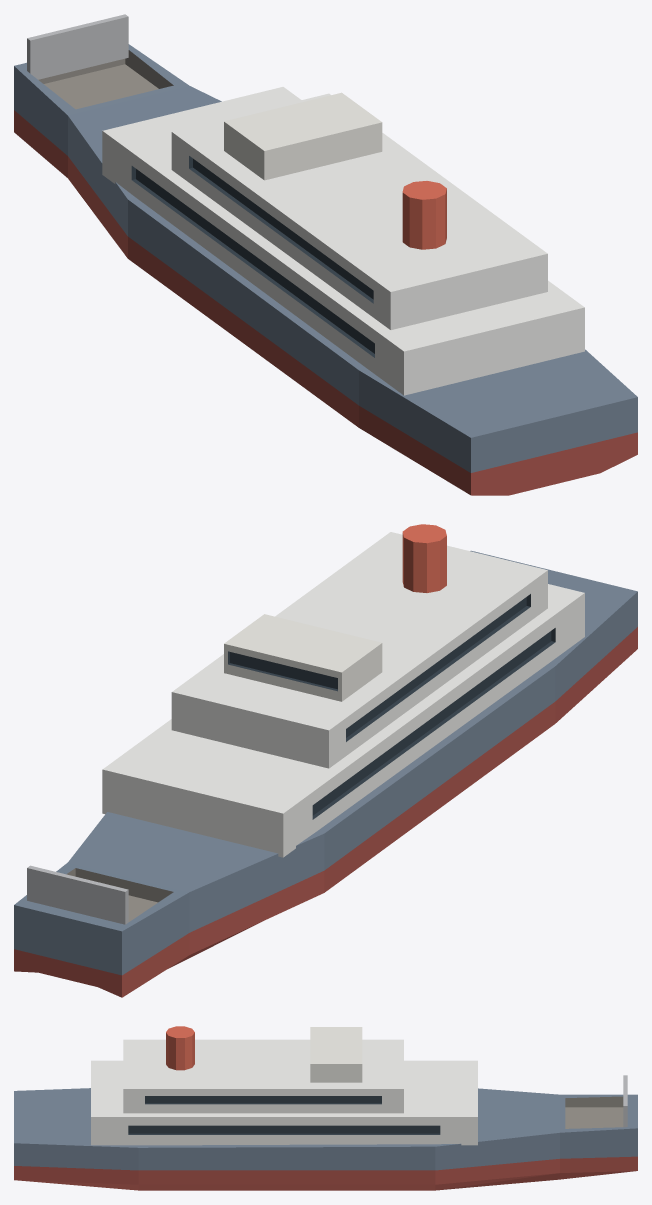
Rendered from ferry_lod1.glb.
The picture shows the model from 3 angles, top to bottom: view 1: azimuth 30°, elevation 25°; view 2: azimuth 150°, elevation 25°; view 3: azimuth 270°, elevation 25°; orthographic projection. The views are drawn at different scales.
Visible parts, largest first — view 1: ferry_lod1; view 2: ferry_lod1; view 3: ferry_lod1.
Boxes of the visible parts, x1,y1,x2,y2 form: ferry_lod1: [14, 14, 637, 495]; ferry_lod1: [14, 524, 637, 997]; ferry_lod1: [14, 1026, 637, 1190].
Size of the model in its own units: 14 by 15 by 60.
